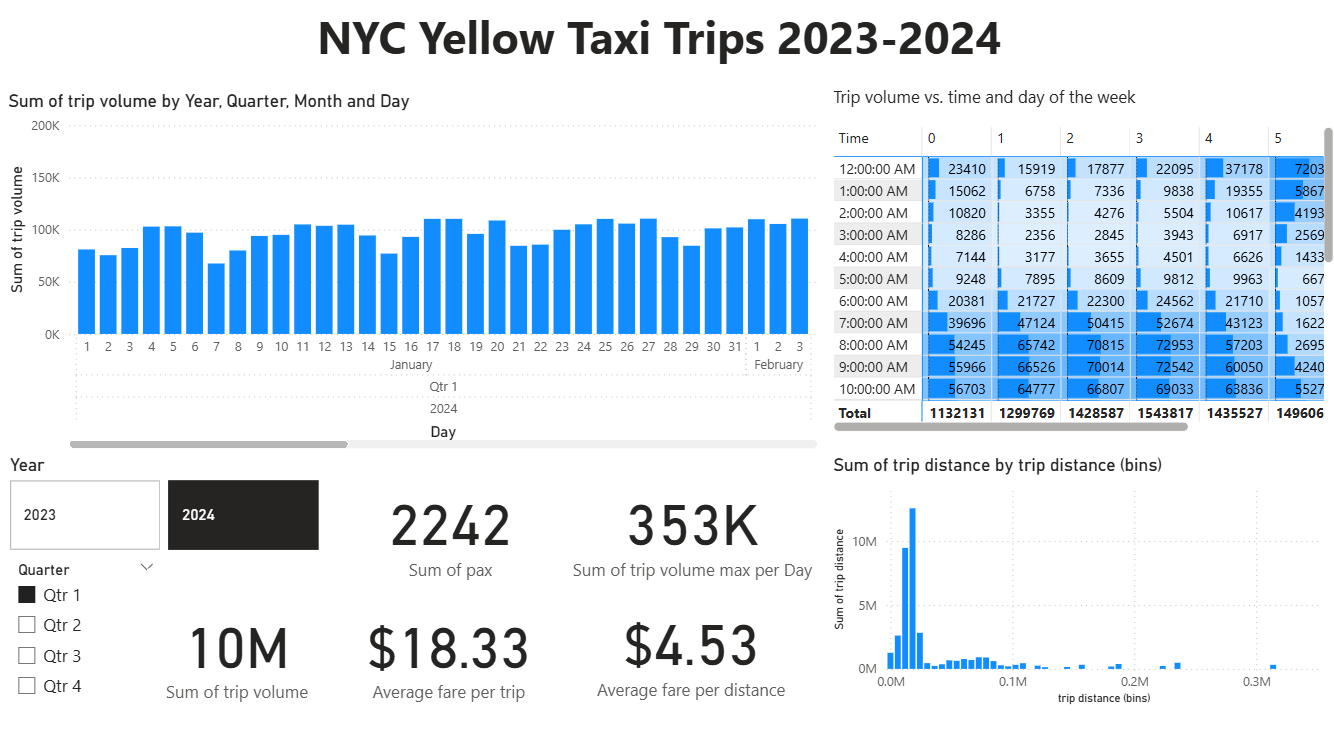

What the dashboard file says about the page in this screenshot:
{"tool":"powerbi","page":{"name":"Page 1","canvas":[1280,720],"ordinal":0},"visuals":[{"type":"clusteredColumnChart","fields":{"Y":["Sum(cleaned_hourly_taxi_data.trip_volume)"],"Category":["cleaned_hourly_taxi_data.pickup_hour.Variation.Date Hierarchy.Year","cleaned_hourly_taxi_data.pickup_hour.Variation.Date Hierarchy.Quarter","cleaned_hourly_taxi_data.pickup_hour.Variation.Date Hierarchy.Month","cleaned_hourly_taxi_data.pickup_hour.Variation.Date Hierarchy.Day"]},"box":[0,378,780,328],"z":0},{"type":"slicer","fields":{"Values":["cleaned_hourly_taxi_data.pickup_hour.Variation.Date Hierarchy.Quarter"]},"box":[213.3,243.3,138.3,78.3],"z":1000},{"type":"advancedSlicerVisual","fields":{"Values":["cleaned_hourly_taxi_data.pickup_hour.Variation.Date Hierarchy.Year"]},"box":[13.3,245,198.3,78.3],"z":2000},{"type":"card","fields":{"Values":["Sum(cleaned_hourly_taxi_data.trip_volume)"]},"box":[3.5,114.3,170,110],"z":3000},{"type":"card","fields":{"Values":["Avg(cleaned_hourly_taxi_data.fare_amount)"]},"box":[368.3,115,208.3,108.3],"z":4000},{"type":"textbox","box":[192,16,902,84],"z":5000},{"type":"card","fields":{"Values":["cleaned_hourly_taxi_data.Sum of trip volume max per Day"]},"box":[161.7,115,210,110],"z":6000},{"type":"pivotTable","title":"Trip volume vs. time and day of the week","fields":{"Rows":["cleaned_hourly_taxi_data.Time"],"Values":["Sum(cleaned_hourly_taxi_data.trip volume)"],"Columns":["cleaned_hourly_taxi_data.Day Name","cleaned_hourly_taxi_data.Day of Week"]},"box":[780,115.7,500,244.3],"z":7000},{"type":"clusteredColumnChart","fields":{"Y":["Count(cleaned_hourly_taxi_data.trip_distance)"],"Category":["cleaned_hourly_taxi_data.trip_distance (bins)"]},"box":[780,378.6,484.3,315.7],"z":8000},{"type":"tableEx","title":"Busiest times","fields":{"Values":["cleaned_hourly_taxi_data.Time","cleaned_hourly_taxi_data.Day Name","Avg(cleaned_hourly_taxi_data.trip volume)","Avg(cleaned_hourly_taxi_data.passengers)"]},"box":[365,238.3,415,101.7],"z":9000},{"type":"card","fields":{"Values":["cleaned_hourly_taxi_data.Average fare per miles"]},"box":[571.7,116.7,208.3,108.3],"z":10000}]}

Visuals, with their boxes in screenshot pixels (x1, y1, x2, y2), scaled from the page's 1280x720 canvas onto the 1334x750 screenshot:
clusteredColumnChart - Sum(cleaned_hourly_taxi_data.trip_volume) x cleaned_hourly_taxi_data.pickup_hour.Variation.Date Hierarchy.Year: bbox(0, 394, 813, 735)
slicer - cleaned_hourly_taxi_data.pickup_hour.Variation.Date Hierarchy.Quarter: bbox(222, 253, 366, 335)
advancedSlicerVisual - cleaned_hourly_taxi_data.pickup_hour.Variation.Date Hierarchy.Year: bbox(14, 255, 221, 337)
card - Sum(cleaned_hourly_taxi_data.trip_volume): bbox(4, 119, 181, 234)
card - Avg(cleaned_hourly_taxi_data.fare_amount): bbox(384, 120, 601, 233)
textbox: bbox(200, 17, 1140, 104)
card - cleaned_hourly_taxi_data.Sum of trip volume max per Day: bbox(169, 120, 387, 234)
"Trip volume vs. time and day of the week" pivotTable: bbox(813, 121, 1333, 375)
clusteredColumnChart - Count(cleaned_hourly_taxi_data.trip_distance) x cleaned_hourly_taxi_data.trip_distance (bins): bbox(813, 394, 1318, 723)
"Busiest times" tableEx: bbox(380, 248, 813, 354)
card - cleaned_hourly_taxi_data.Average fare per miles: bbox(596, 122, 813, 234)
